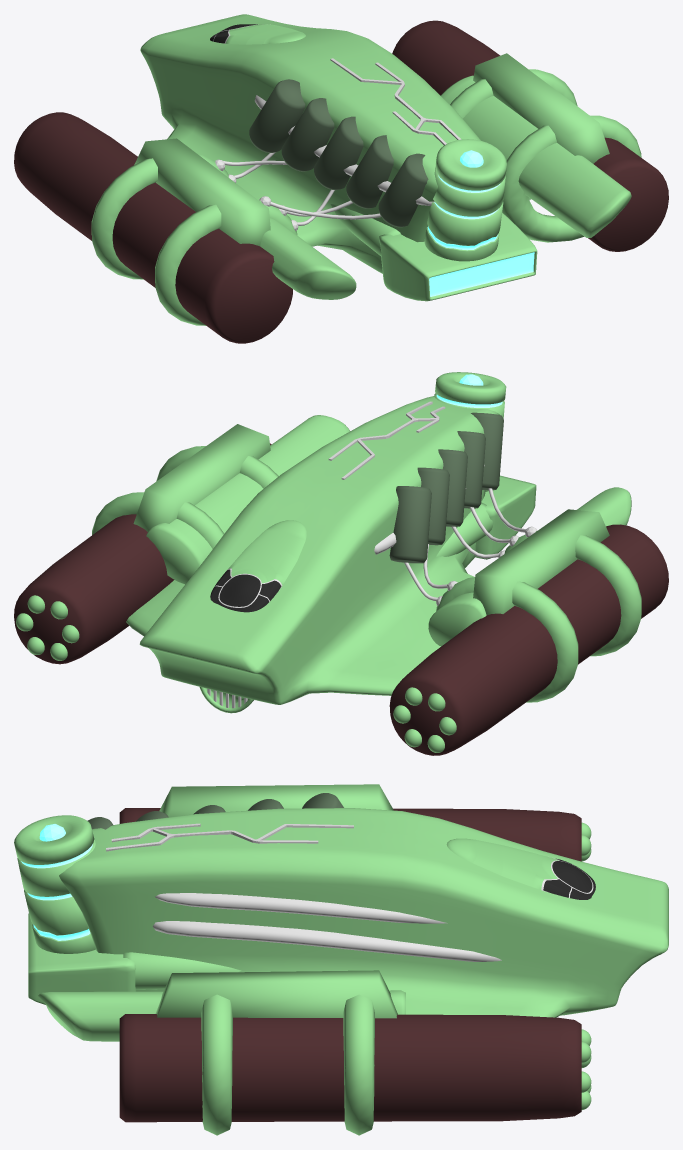
File: LightShip2_Mesh.fbx
3 renders of one model, top to bottom at view 1: azimuth 30°, elevation 25°; view 2: azimuth 150°, elevation 25°; view 3: azimuth 270°, elevation 25°, orthographic. The views are drawn at different scales.
Visible parts, largest first — view 1: LeftCannon, Hull, RightCannon, Cans, Generator, Engine, Icosphere.001, Cockpit, Stripe3, Plane, Stripe1; view 2: Hull, LeftCannon, RightCannon, Cans, Cockpit, Engine, Generator, Icosphere.001, Stripe3, Plane, CoolingTube; view 3: Hull, RightCannon, LeftCannon, Stripe2, Generator, Engine, Cockpit, Stripe4, Plane, Cans.
Boxes of the visible parts, left/top/right/bottom form: LeftCannon: left=14, top=112, right=356, bottom=343; Hull: left=140, top=14, right=530, bottom=273; RightCannon: left=392, top=20, right=668, bottom=251; Cans: left=249, top=79, right=428, bottom=227; Generator: left=424, top=139, right=506, bottom=261; Engine: left=379, top=212, right=537, bottom=301; Icosphere.001: left=215, top=152, right=380, bottom=230; Cockpit: left=210, top=24, right=305, bottom=44; Stripe3: left=330, top=204, right=400, bottom=255; Plane: left=330, top=58, right=461, bottom=145; Stripe1: left=254, top=95, right=434, bottom=205; Hull: left=126, top=396, right=499, bottom=704; LeftCannon: left=389, top=487, right=668, bottom=755; RightCannon: left=14, top=415, right=349, bottom=664; Cans: left=389, top=412, right=503, bottom=563; Cockpit: left=210, top=520, right=306, bottom=612; Engine: left=475, top=475, right=536, bottom=559; Generator: left=434, top=372, right=506, bottom=491; Icosphere.001: left=404, top=488, right=537, bottom=605; Stripe3: left=436, top=502, right=493, bottom=556; Plane: left=328, top=401, right=445, bottom=479; CoolingTube: left=199, top=687, right=253, bottom=713; Hull: left=59, top=808, right=668, bottom=1017; RightCannon: left=38, top=970, right=591, bottom=1135; LeftCannon: left=119, top=784, right=591, bottom=861; Stripe2: left=153, top=893, right=501, bottom=961; Generator: left=14, top=815, right=95, bottom=953; Engine: left=28, top=913, right=136, bottom=1004; Cockpit: left=446, top=838, right=595, bottom=899; Stripe4: left=123, top=952, right=241, bottom=989; Plane: left=106, top=823, right=353, bottom=851; Cans: left=87, top=793, right=343, bottom=829.
Bounding box in the file's own units: 1160 × 419 × 1206.
